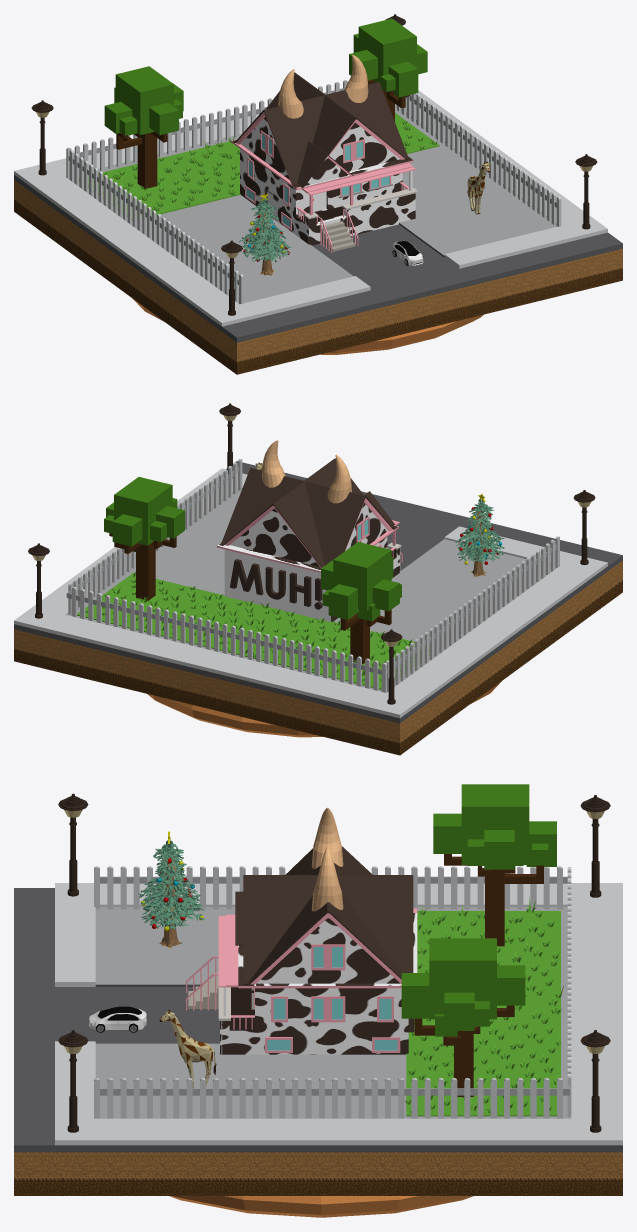
3 renders of one model, top to bottom at view 1: azimuth 30°, elevation 25°; view 2: azimuth 150°, elevation 25°; view 3: azimuth 270°, elevation 25°, orthographic. The views are drawn at different scales.
Parts seen in each view (by area): view 1: Cube.004, Cube.1242, OBJRANDOM_CHRISTMAS_TREE, UNDERGROUND_PIZZA, ANIMAL_JIRAFA, VEHICLES_TESLA; view 2: Cube.004, Cube.1242, OBJRANDOM_CHRISTMAS_TREE, UNDERGROUND_PIZZA; view 3: Cube.004, Cube.1242, UNDERGROUND_PIZZA, OBJRANDOM_CHRISTMAS_TREE, ANIMAL_JIRAFA, VEHICLES_TESLA.
Boxes of the visible parts, x1,y1,x2,y2 form: Cube.004: [14, 14, 622, 374]; Cube.1242: [231, 54, 418, 252]; OBJRANDOM_CHRISTMAS_TREE: [239, 193, 291, 275]; UNDERGROUND_PIZZA: [132, 298, 483, 354]; ANIMAL_JIRAFA: [467, 161, 490, 214]; VEHICLES_TESLA: [392, 240, 423, 265]; Cube.004: [14, 403, 622, 755]; Cube.1242: [216, 440, 402, 621]; OBJRANDOM_CHRISTMAS_TREE: [455, 493, 504, 577]; UNDERGROUND_PIZZA: [147, 681, 501, 737]; Cube.004: [14, 784, 622, 1195]; Cube.1242: [185, 807, 417, 1054]; UNDERGROUND_PIZZA: [169, 1196, 473, 1217]; OBJRANDOM_CHRISTMAS_TREE: [139, 831, 204, 948]; ANIMAL_JIRAFA: [159, 1009, 216, 1088]; VEHICLES_TESLA: [89, 1006, 146, 1032].
Bounding box in the file's own units: 4000 × 2072 × 4000.
44 materials, 3 textured.
